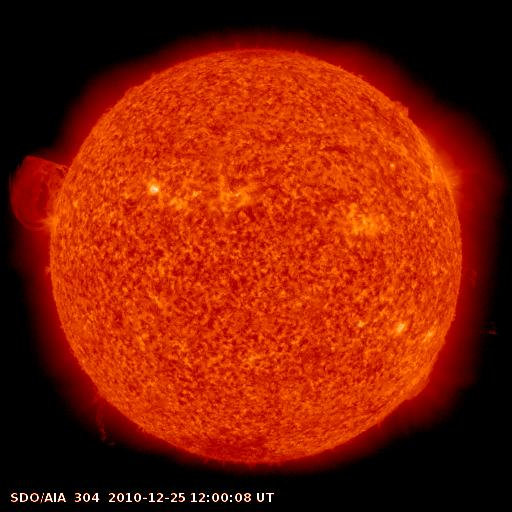prominence: (1, 141, 88, 237), (391, 341, 449, 412), (71, 381, 123, 447), (389, 83, 428, 131)
